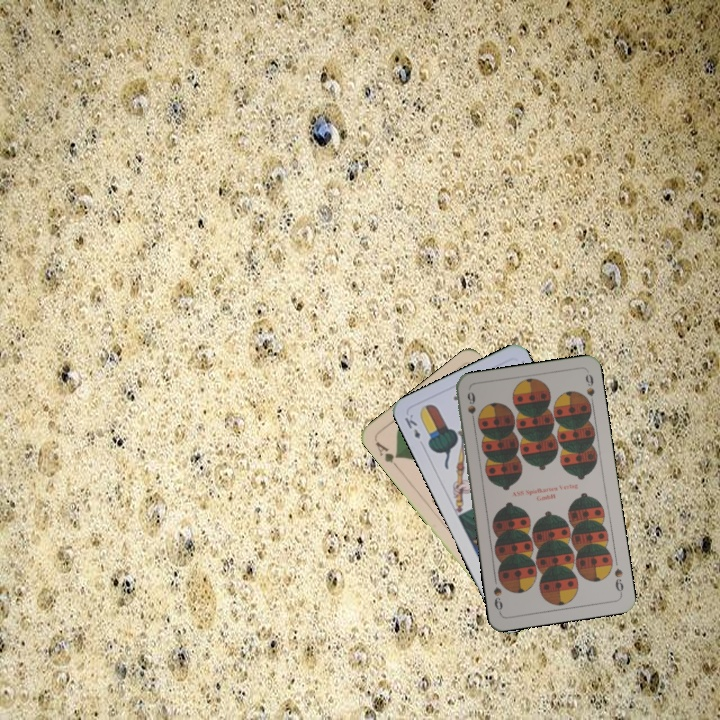EK: (400, 410, 423, 441)
GA: (371, 437, 402, 471)
S9: (463, 388, 478, 428), (610, 564, 626, 597)
